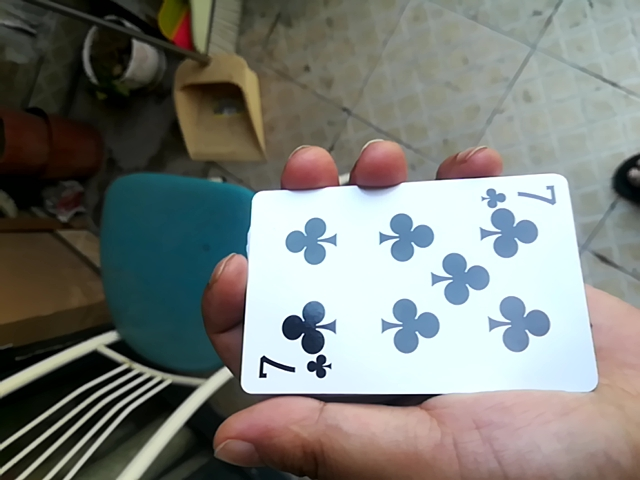mh 7: (227, 176, 595, 396)
